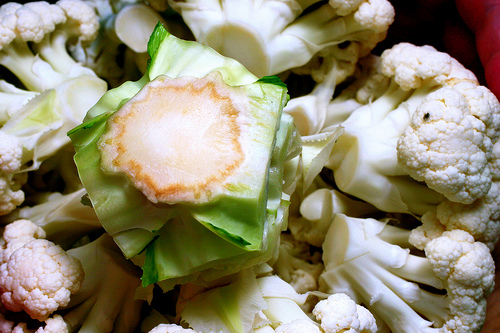cauliflower: (331, 42, 499, 235), (317, 207, 499, 332), (1, 2, 107, 213), (0, 219, 154, 332), (172, 0, 394, 77)
